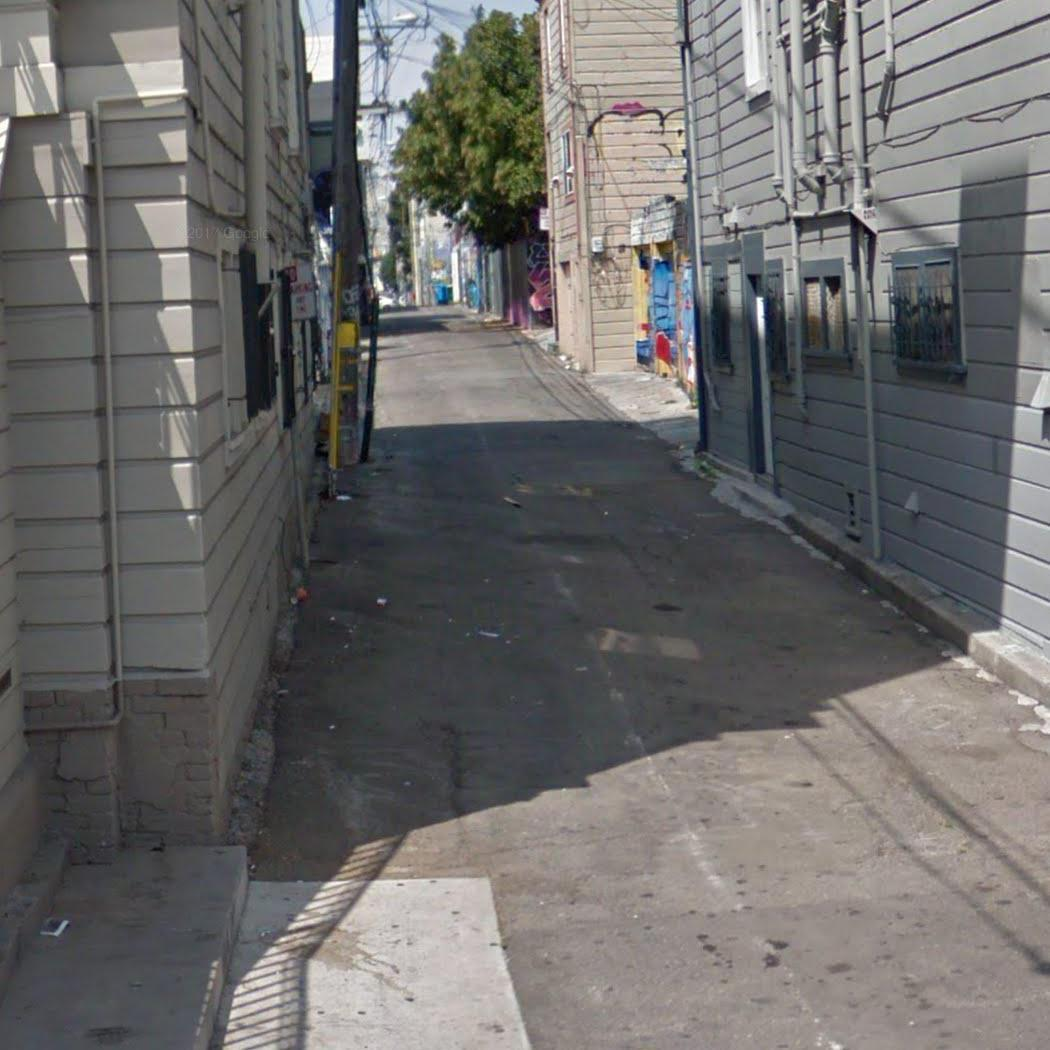No Parking Anytime: (279, 259, 320, 323)
